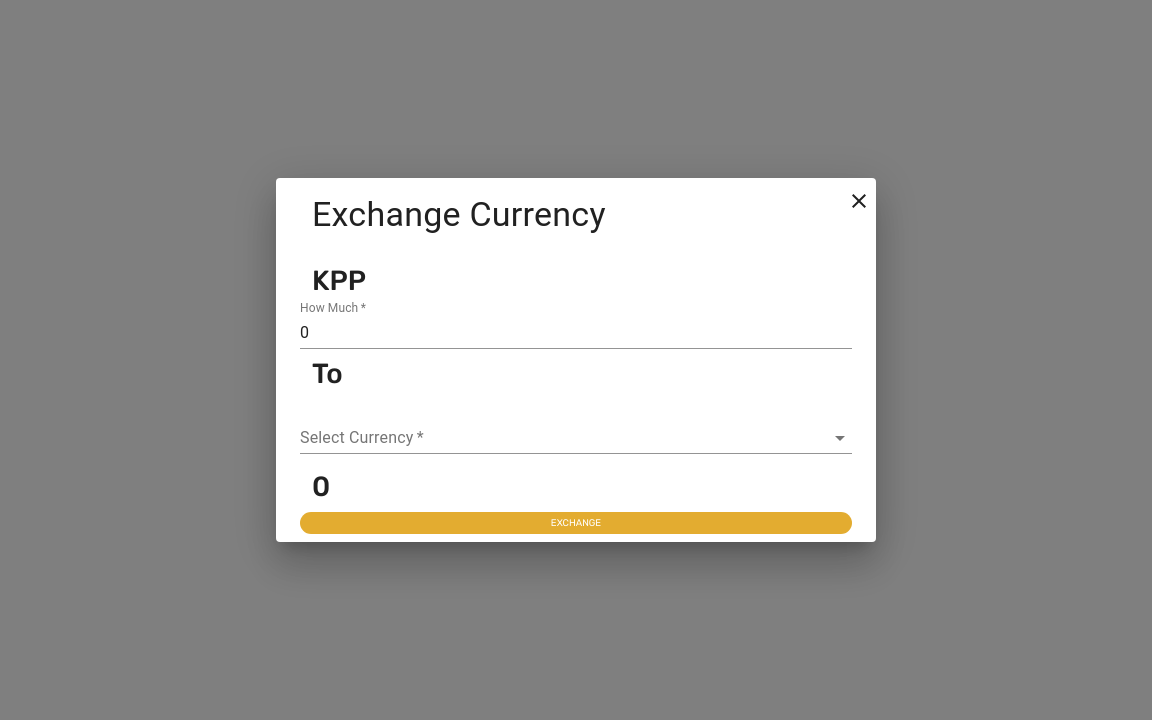
Scenario: ExchangeCurrencyDialog input change
Replace the text in the number field with "8" at (576, 333), box [300, 317, 852, 349]
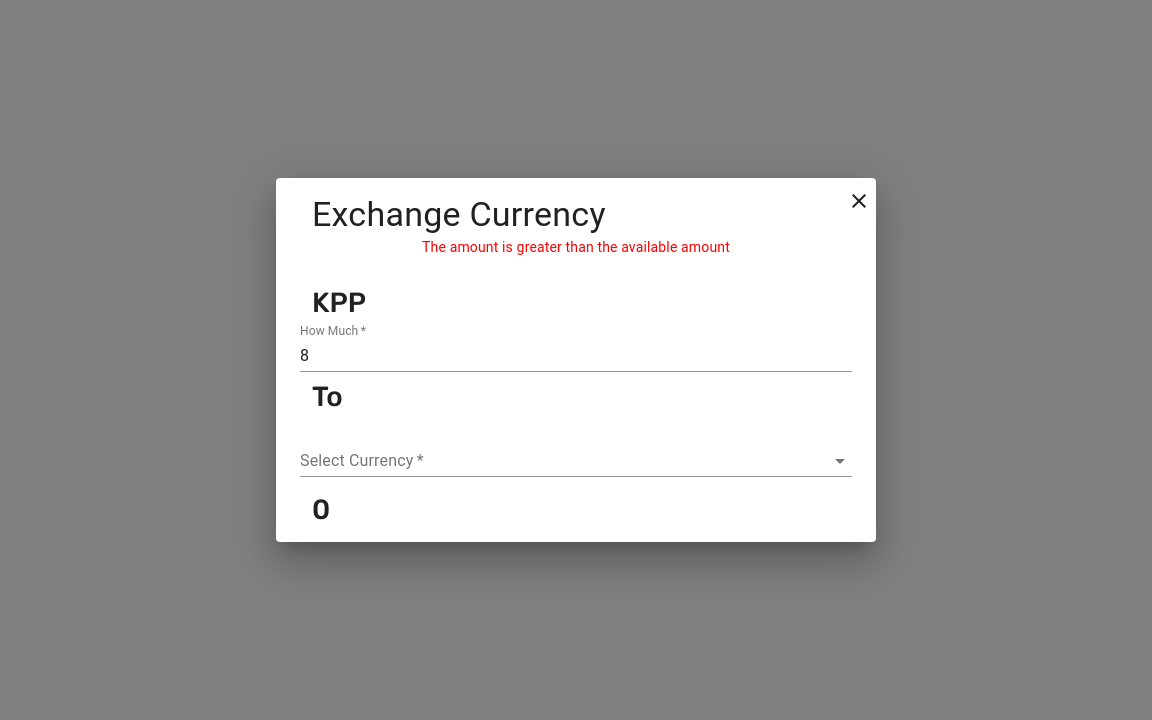
Type "U" into the field labelled "Select Currency *" at (548, 460), box [300, 445, 796, 476]
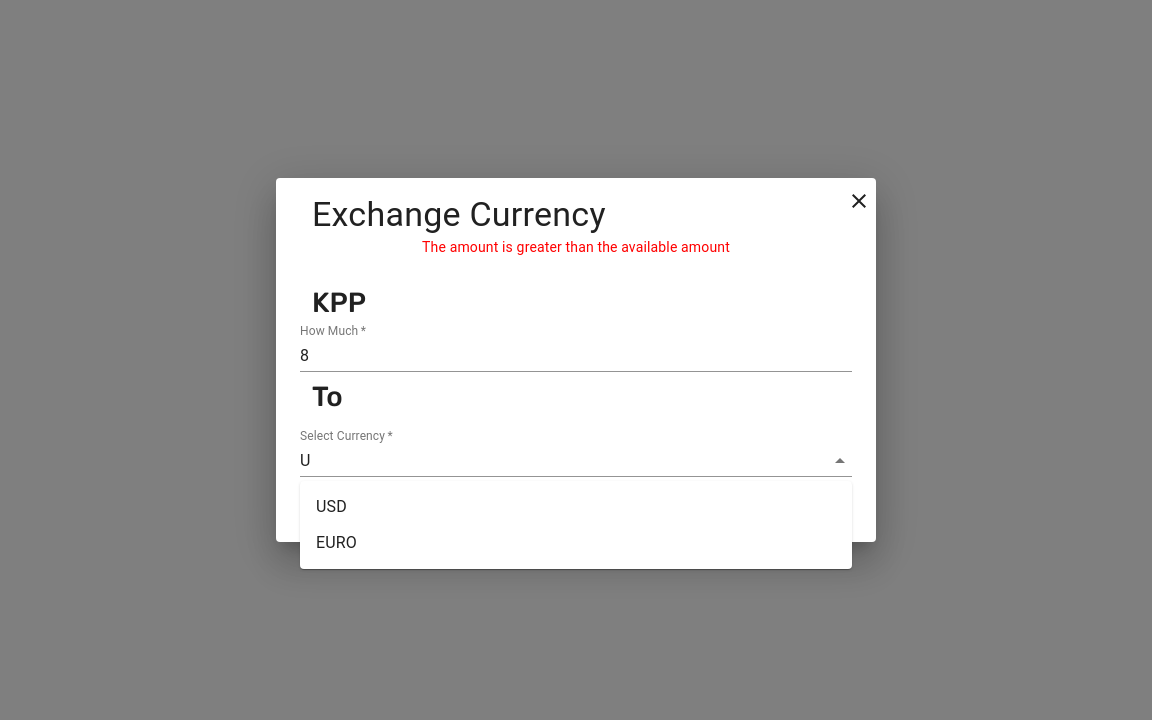
Press ArrowDown in the dropdown with test id "exchange-currency", box [300, 429, 852, 477]
Press Enter in the dropdown with test id "exchange-currency", box [300, 429, 852, 477]
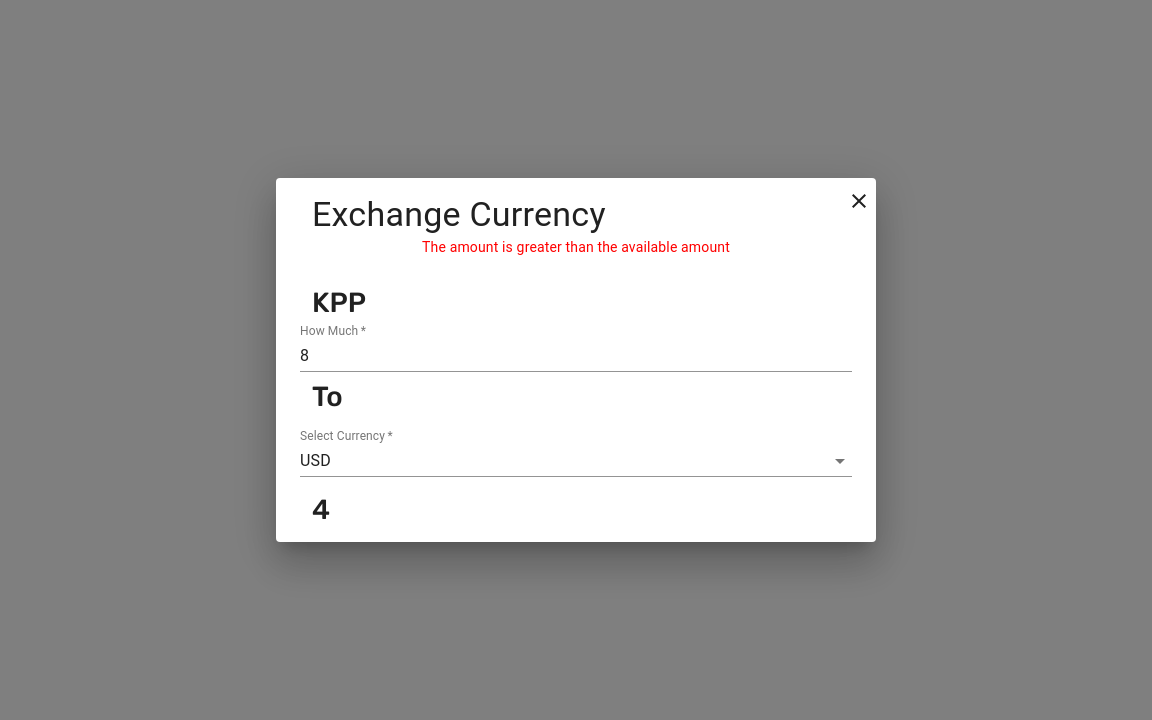
Result: the field labelled "Select Currency *" holds "USD" at [300, 445, 796, 476]
